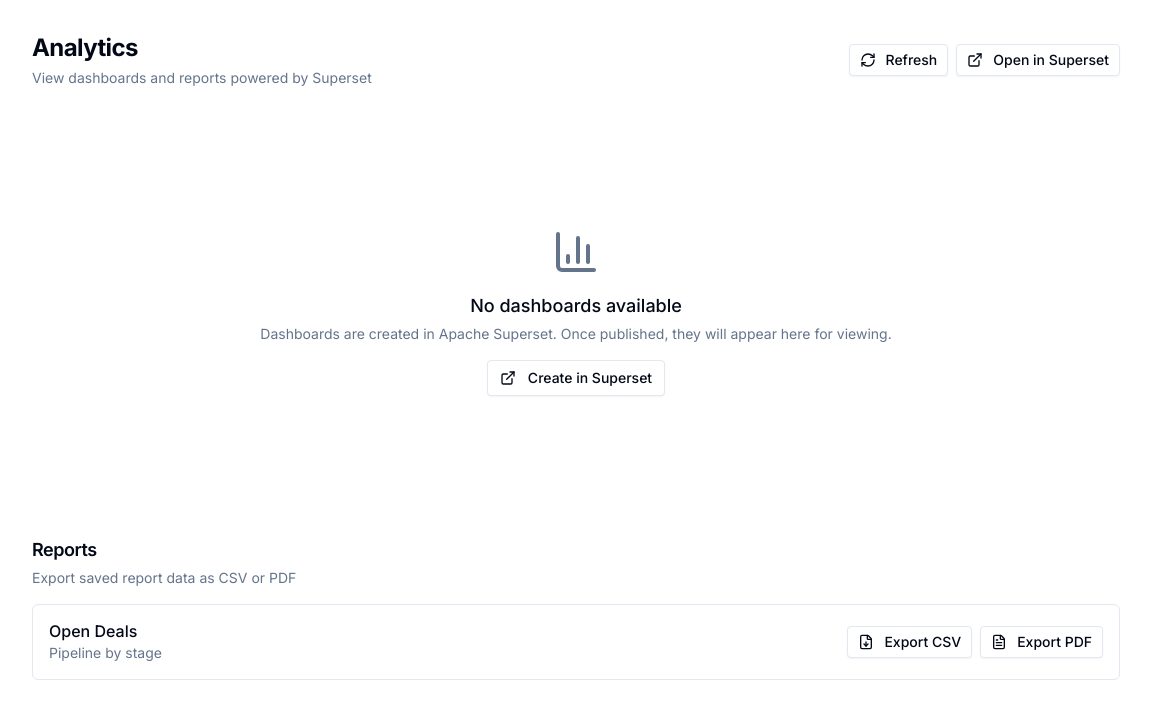
Test: AnalyticsPage › report exports › shows an error toast with the server detail when an export fails
The width and height of the screenshot is (1152, 720).
Click the button with test id "report-export-pdf-rep-1" at (1042, 642), box [980, 626, 1103, 658]
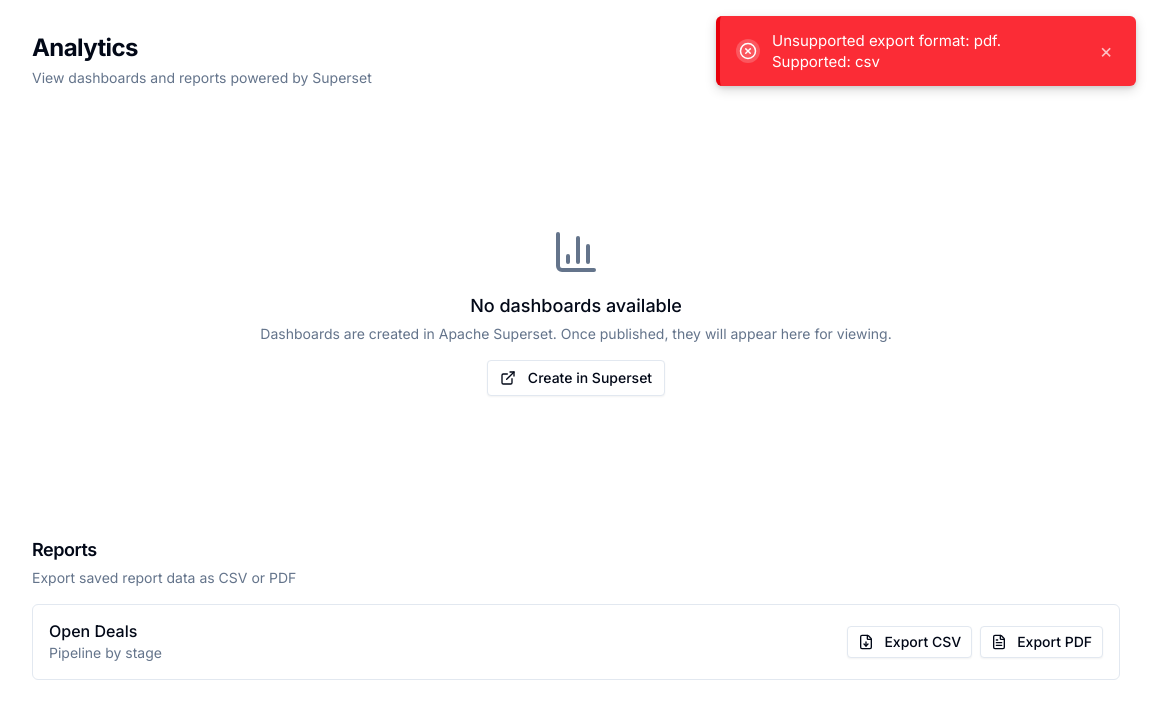
Check: the text "Unsupported export format: pdf. Supported: csv" is shown, box [772, 31, 1001, 71]
